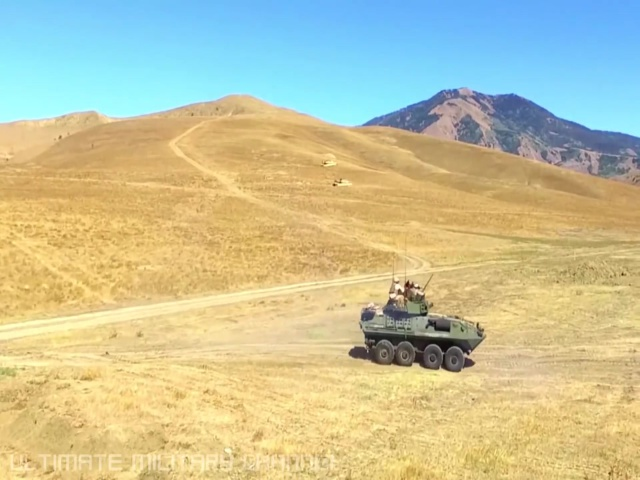vehicle: (359, 295, 487, 370)
